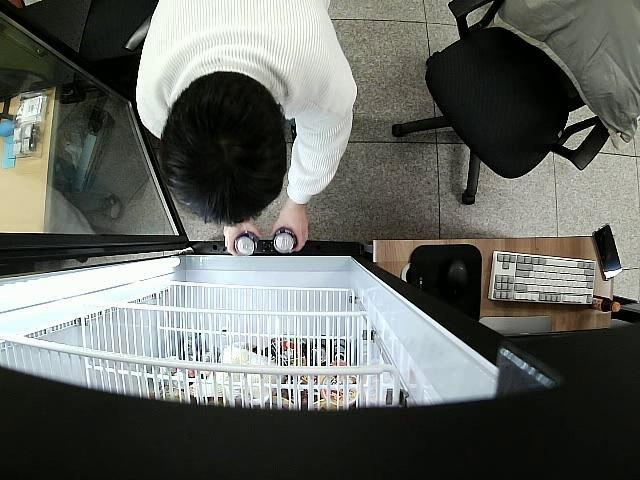14_welchsGrape: (234, 230, 260, 257), (271, 228, 296, 255)
